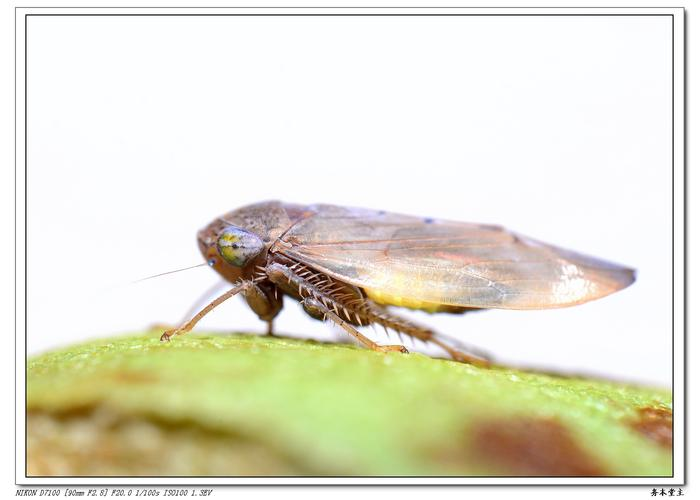Cicadellidae: (193, 199, 638, 350)
